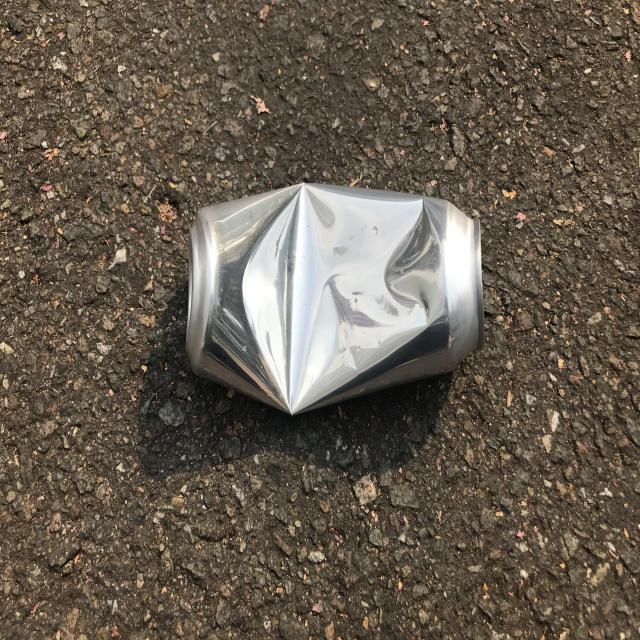can: (186, 182, 485, 415)
